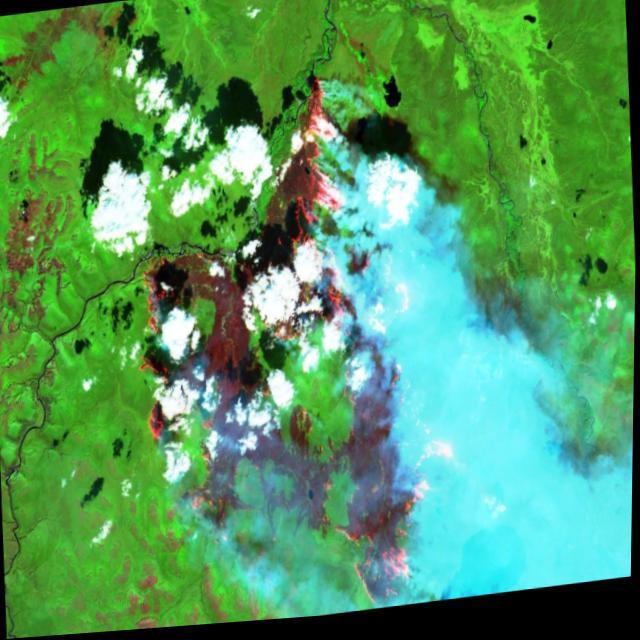fire: (118, 62, 453, 633)
